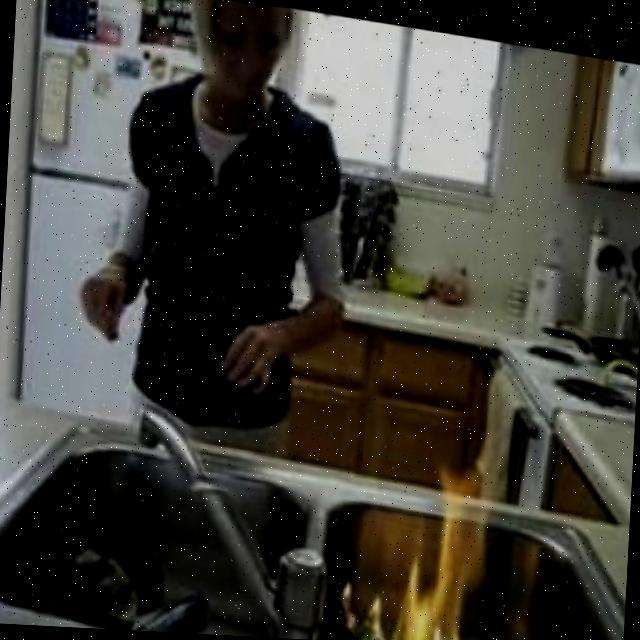fire: (384, 447, 490, 640), (336, 566, 391, 634)
